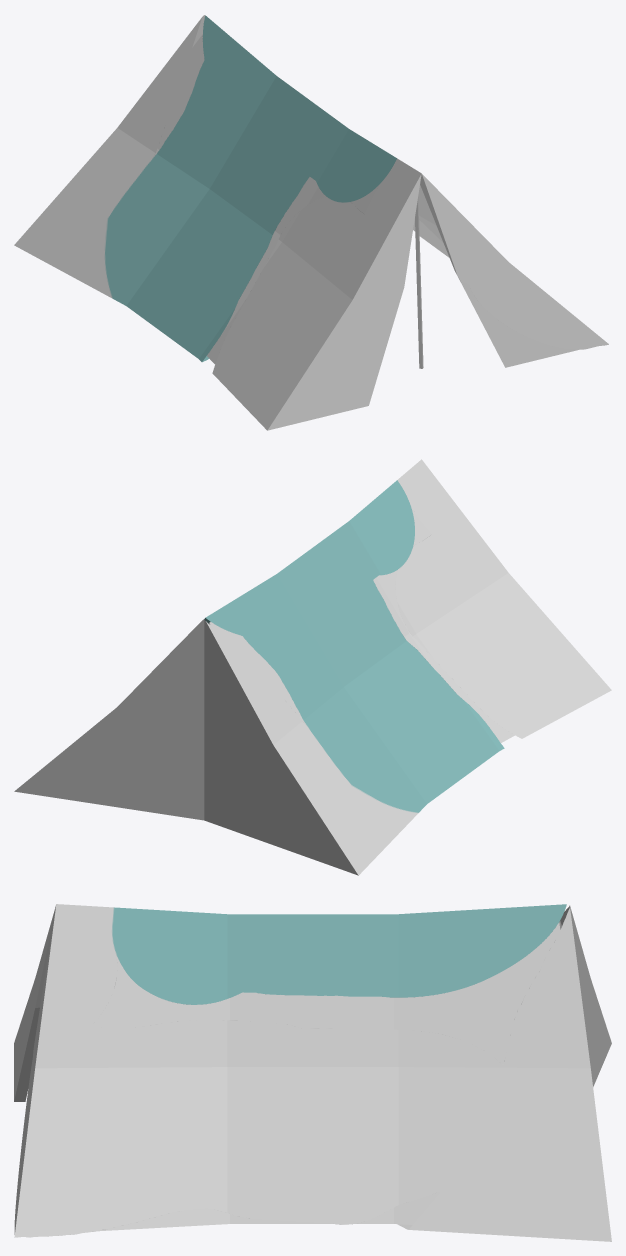
Rendered from Model_namiot.fbx.
3 renders of one model, top to bottom at view 1: azimuth 30°, elevation 25°; view 2: azimuth 150°, elevation 25°; view 3: azimuth 270°, elevation 25°, orthographic. The views are drawn at different scales.
Visible parts, largest first — view 1: Mesh_Namiot; view 2: Mesh_Namiot; view 3: Mesh_Namiot.
Boxes of the visible parts, x1=… form: Mesh_Namiot: x1=14, y1=15, x2=608, y2=430; Mesh_Namiot: x1=14, y1=459, x2=611, y2=875; Mesh_Namiot: x1=14, y1=904, x2=611, y2=1241.
Bounding box in the file's own units: 390 × 172 × 306.
